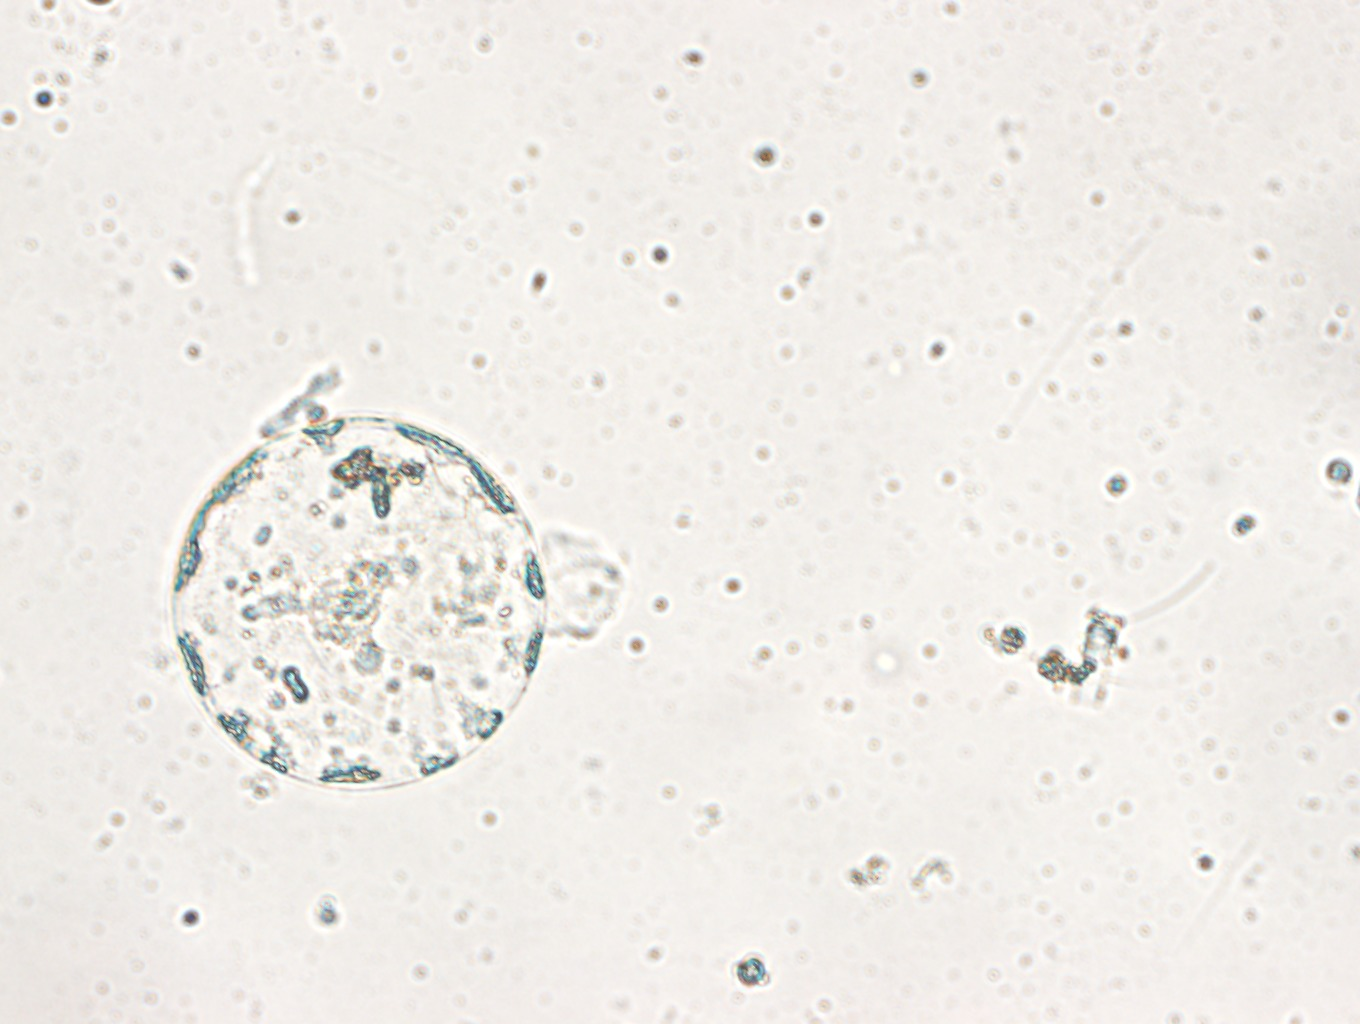coscinodiscus: (164, 409, 549, 793)
